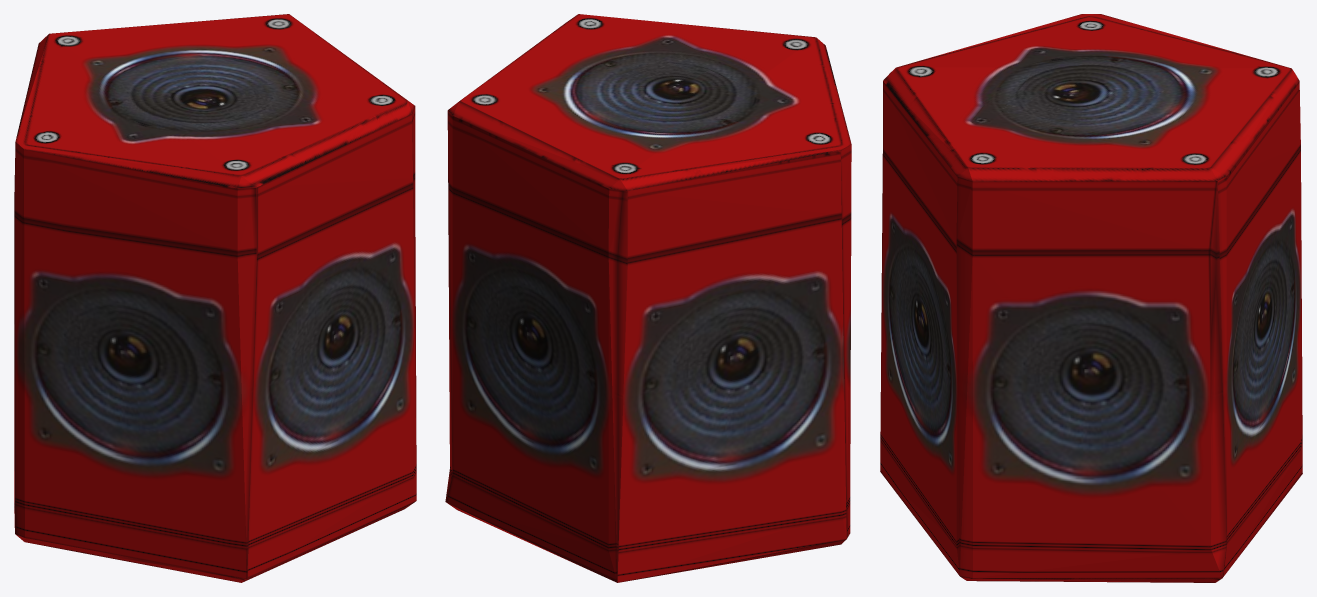
Rendered from omnicam.dae.
3 views of the same model, side by side, from view 1: azimuth 30°, elevation 25°; view 2: azimuth 150°, elevation 25°; view 3: azimuth 270°, elevation 25° (orthographic).
Parts seen in each view (by area): view 1: Omnicam; view 2: Omnicam; view 3: Omnicam.
Boxes of the visible parts, box(x1,y1,x2,y2) form: Omnicam: box(14, 14, 416, 582); Omnicam: box(445, 14, 851, 582); Omnicam: box(880, 14, 1302, 582).
Bounding box in the file's own units: 0.1225 × 0.1293 × 0.14.
1 material, 1 textured.
